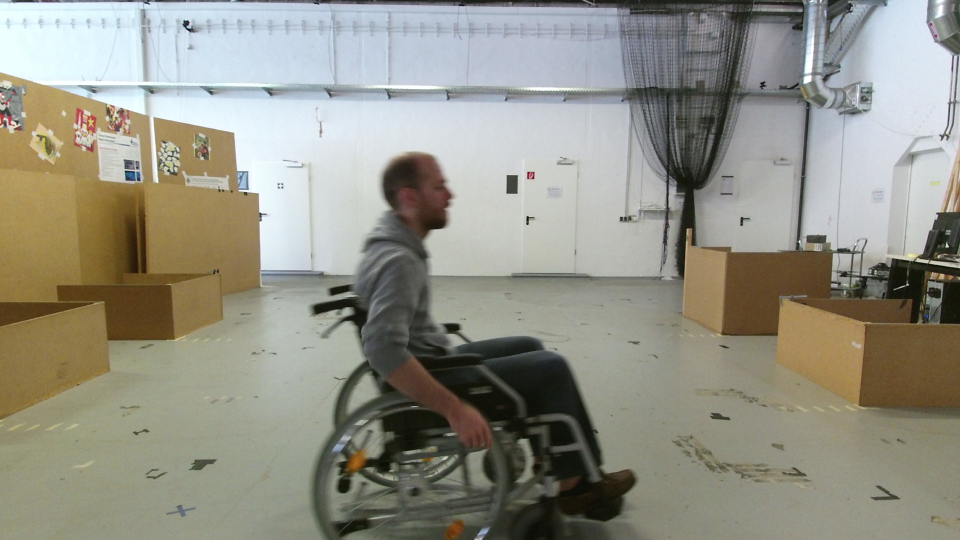wheelchair: (302, 146, 643, 540)
